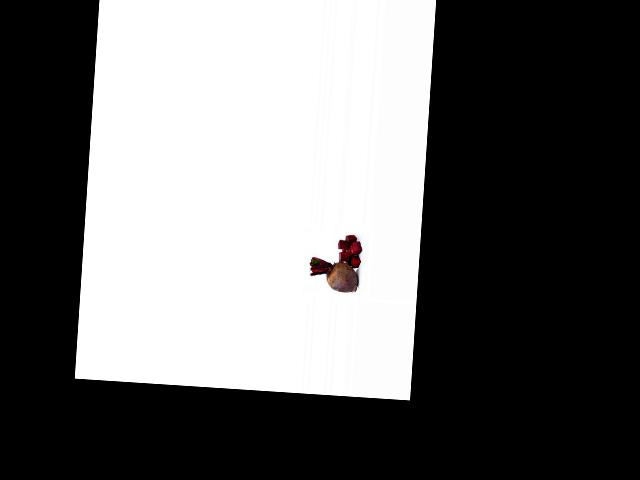beet: (308, 256, 359, 292)
